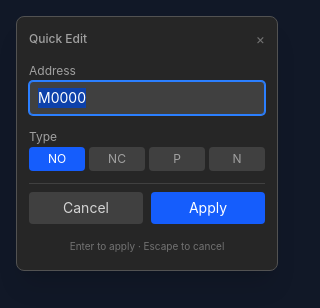
Test: InlineEditPopover › shows validation error for address out of range
Type "M9999" into the field showing "M0000" at (147, 98), box [29, 81, 265, 115]
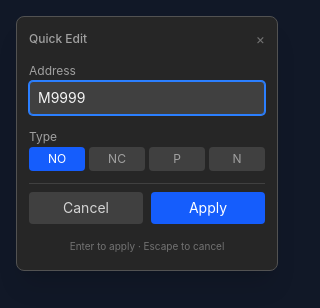
Click the button "Apply" at (208, 208), box [151, 192, 265, 224]
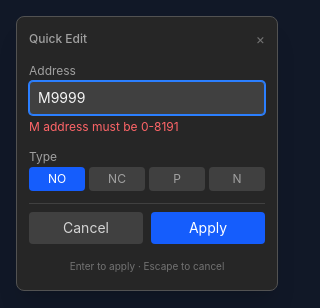
Expected: the text "M address must be 0-8191" is shown, [29, 119, 179, 134]
